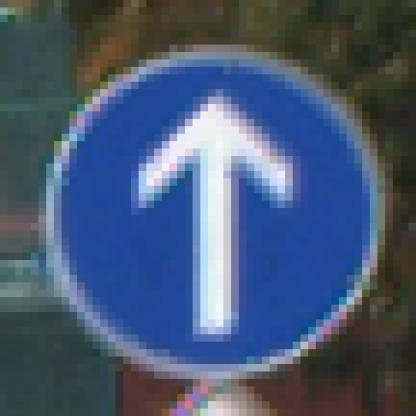straight: (31, 44, 400, 379)
